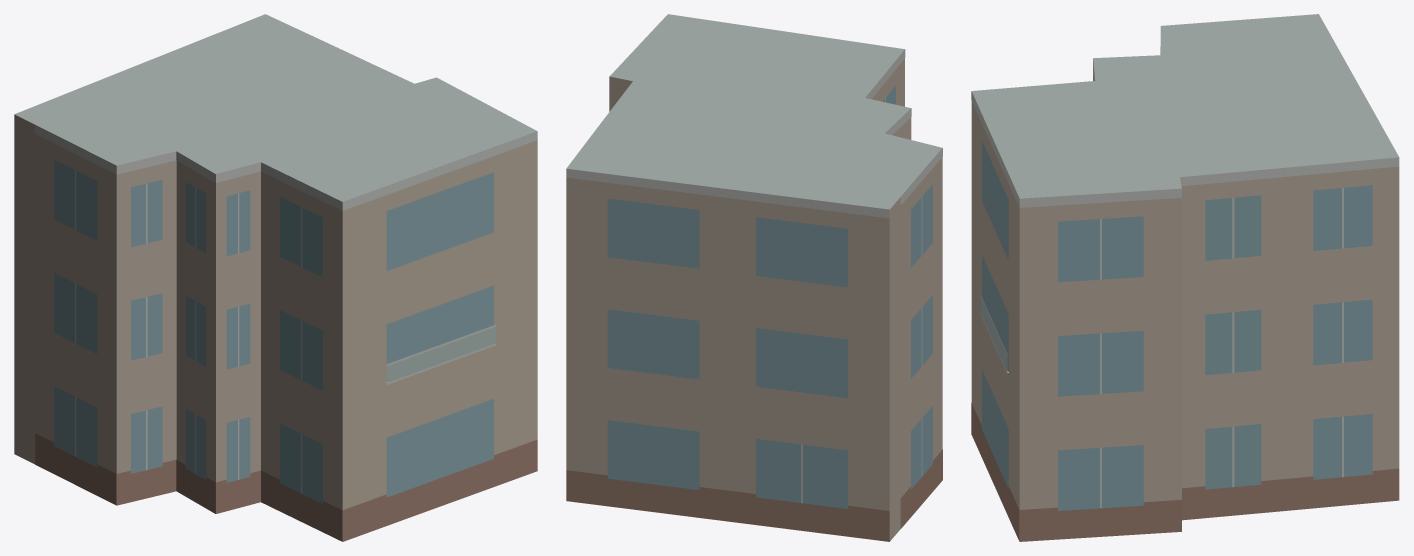
File: survey-upis-32500699.glb
3 renders of one model, left to right at view 1: azimuth 30°, elevation 25°; view 2: azimuth 150°, elevation 25°; view 3: azimuth 270°, elevation 25°, orthographic. The views are drawn at different scales.
Visible parts, largest first — view 1: survey-upis-32500699.tmp; view 2: survey-upis-32500699.tmp; view 3: survey-upis-32500699.tmp.
Boxes of the visible parts, left/top/right/bottom form: survey-upis-32500699.tmp: left=14, top=14, right=537, bottom=541; survey-upis-32500699.tmp: left=566, top=14, right=942, bottom=541; survey-upis-32500699.tmp: left=971, top=14, right=1399, bottom=541.
Size of the model in its own units: 10.57 by 9.15 by 10.35.
